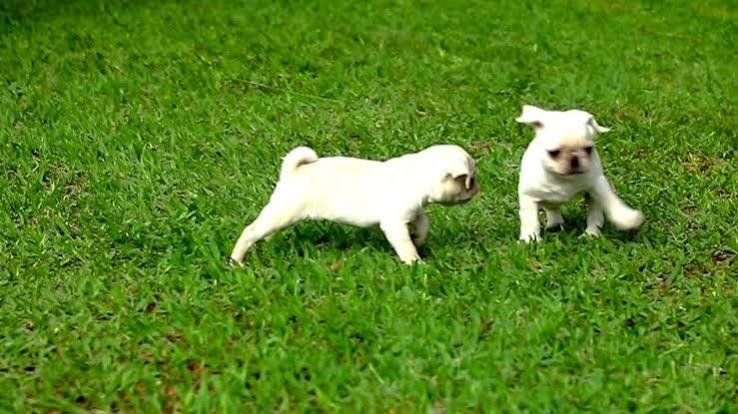puppy-dog: (229, 144, 481, 267), (516, 103, 645, 244)
